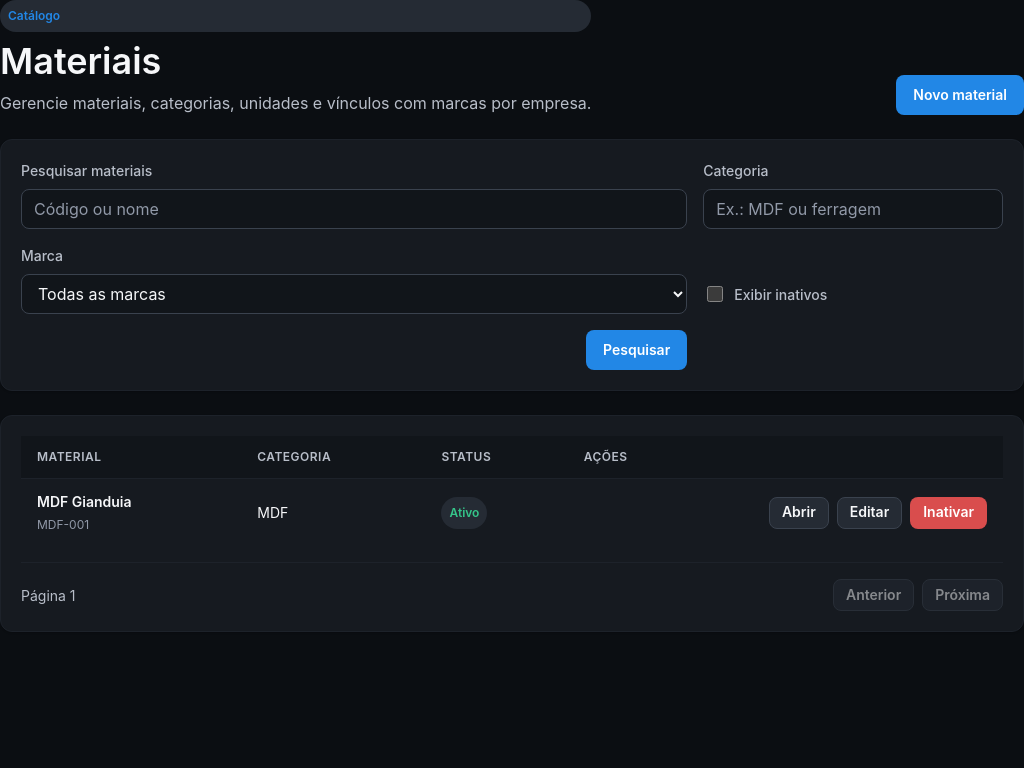
Test case: MaterialsRoute › cadastra um material
Expected: the button "MDF Gianduia" is shown, 37,491 -> 132,512
Click the button "Novo material" at (960, 95), box 896,75 -> 1023,115
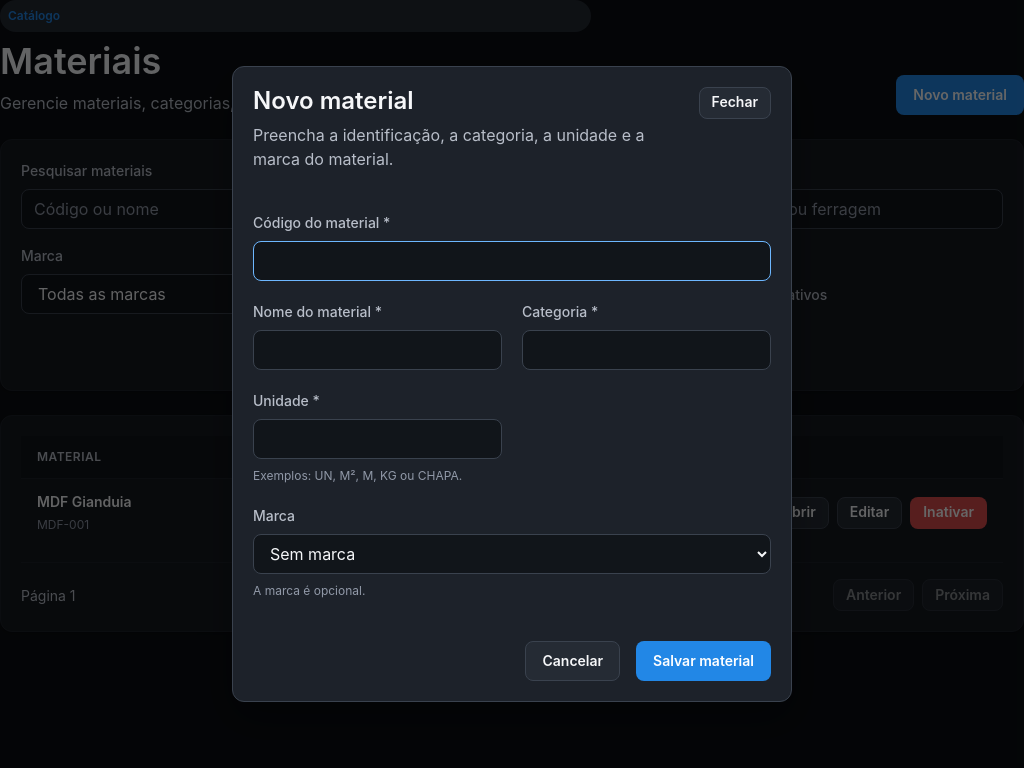
Type "mdf-002" into the field labelled "Código do material *" at (512, 261), box 253,241 -> 771,281
Type "MDF Cristallo" into the field labelled "Nome do material *" at (378, 350), box 253,330 -> 502,370
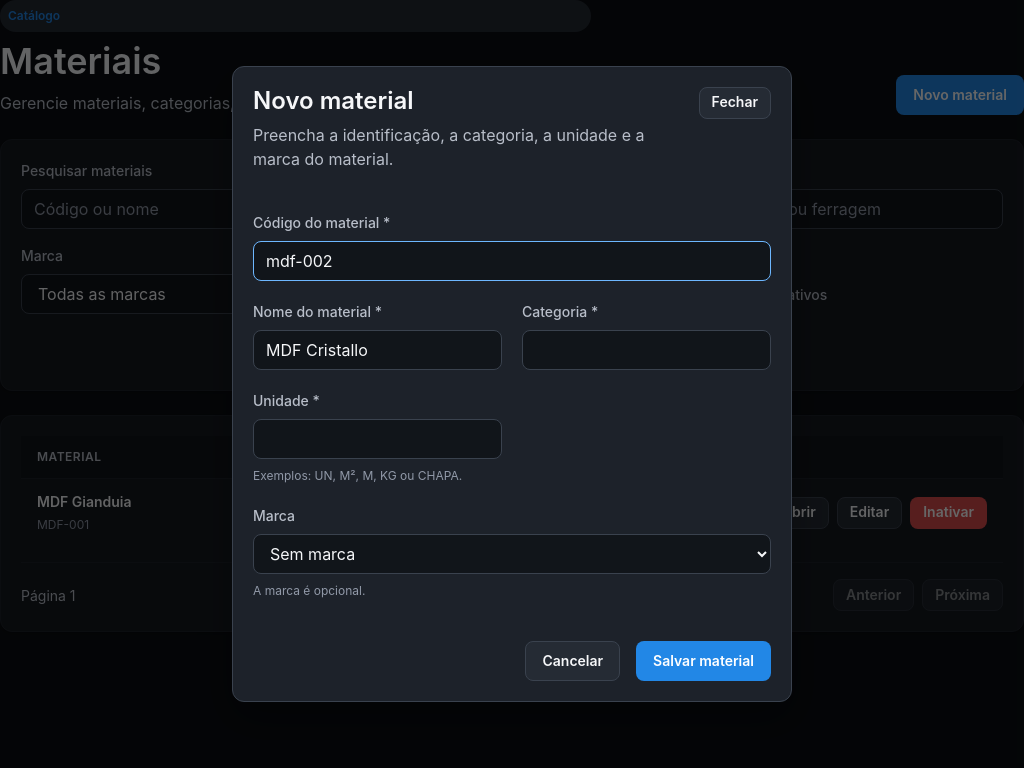
Type "MDF" into the field labelled "Categoria *" at (646, 350), box 522,330 -> 771,370
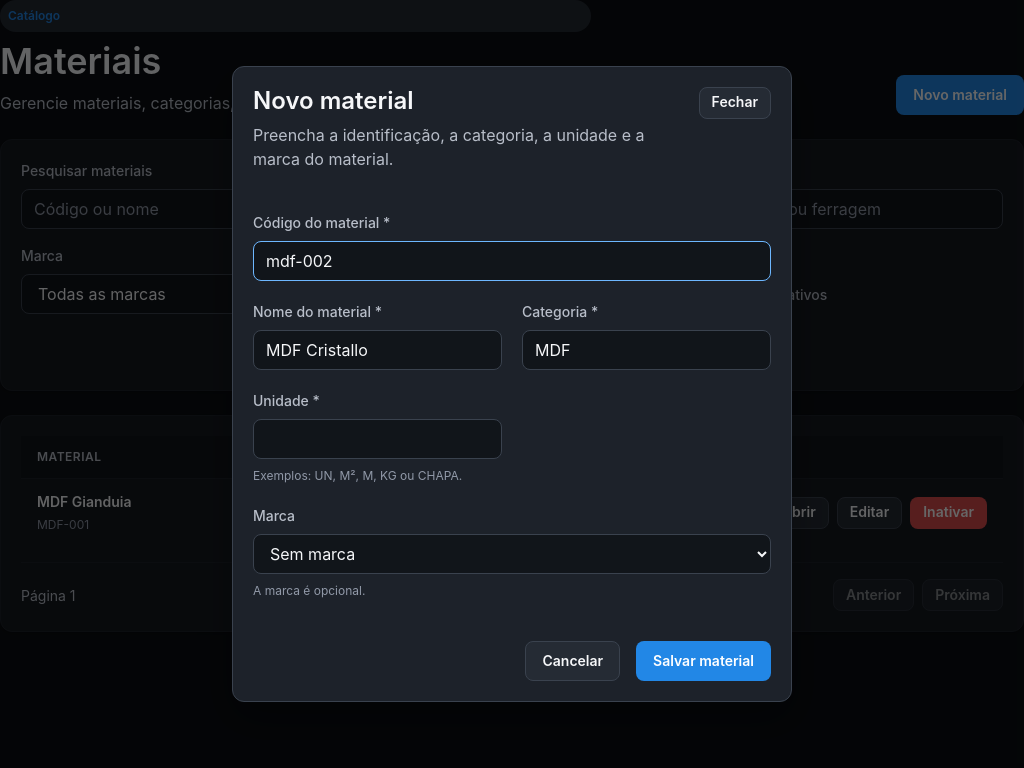
Type "chapa" into the field labelled "Unidade *" at (378, 439), box 253,419 -> 502,459
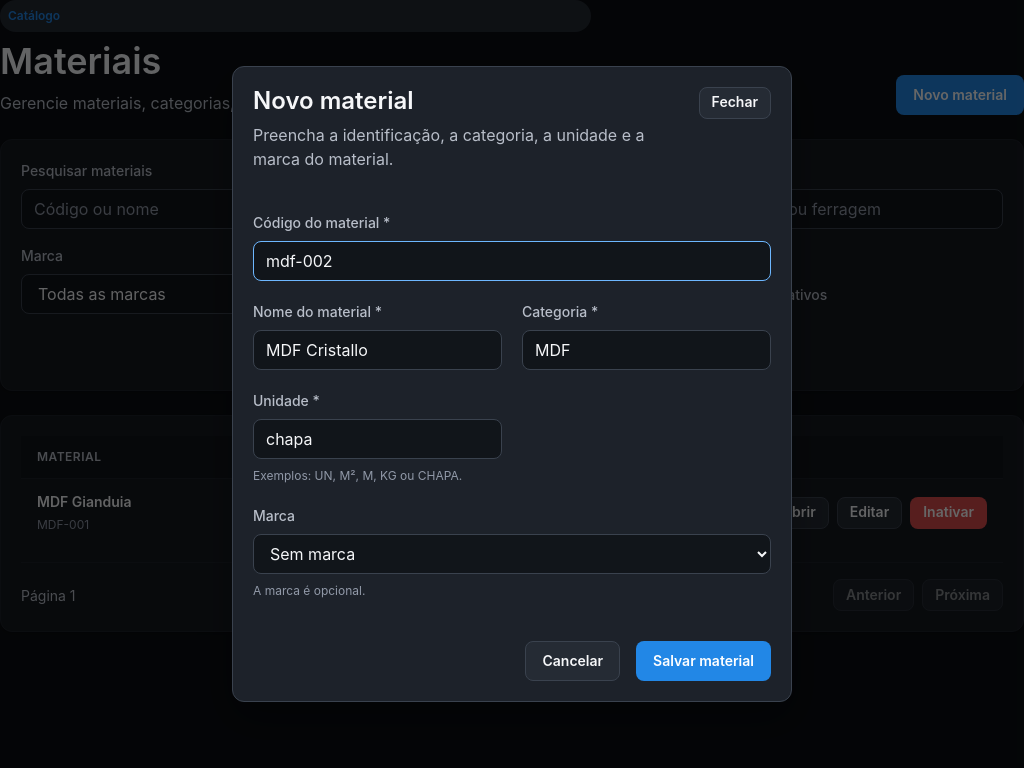
Select "DUR — Duratex" in the dropdown labelled "Marca" at (512, 554), box 253,534 -> 771,574
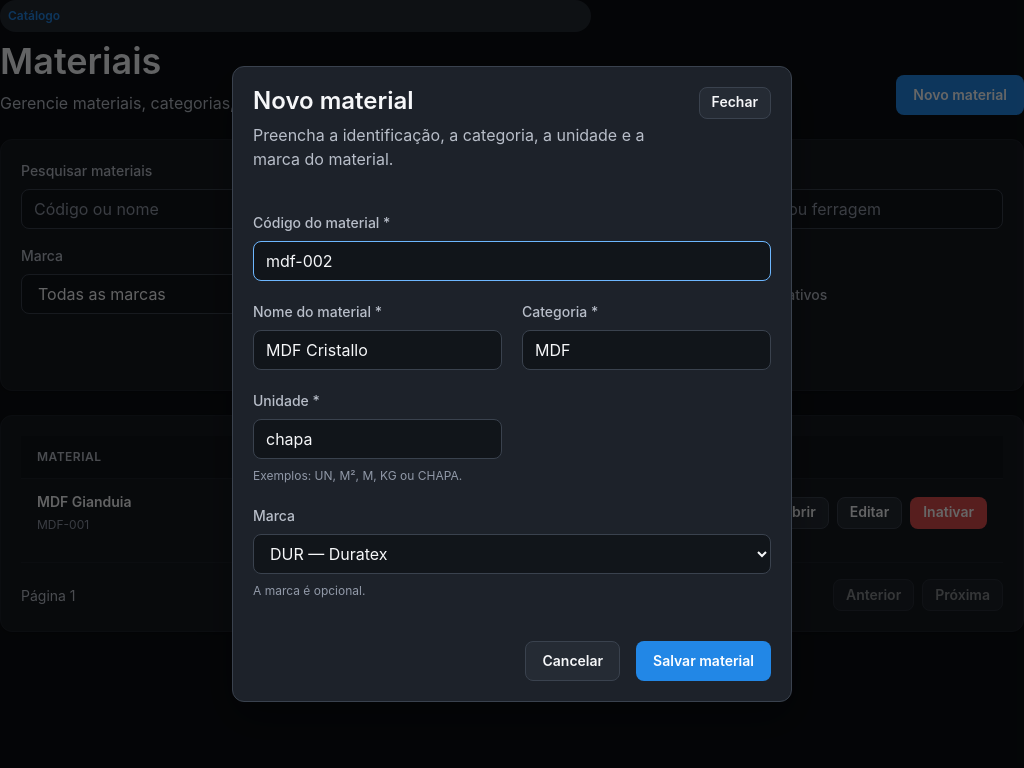
Click the button "Salvar material" at (704, 661), box 636,641 -> 771,681
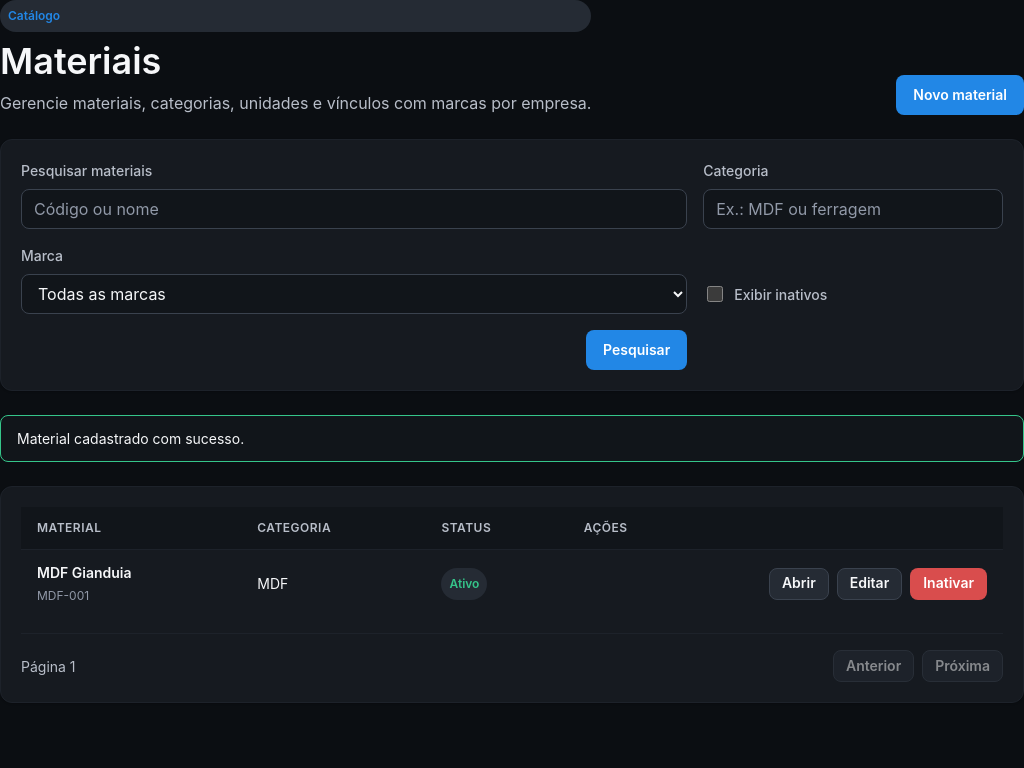
Result: the text "Material cadastrado com sucesso." is shown at 0,415 -> 1023,462
